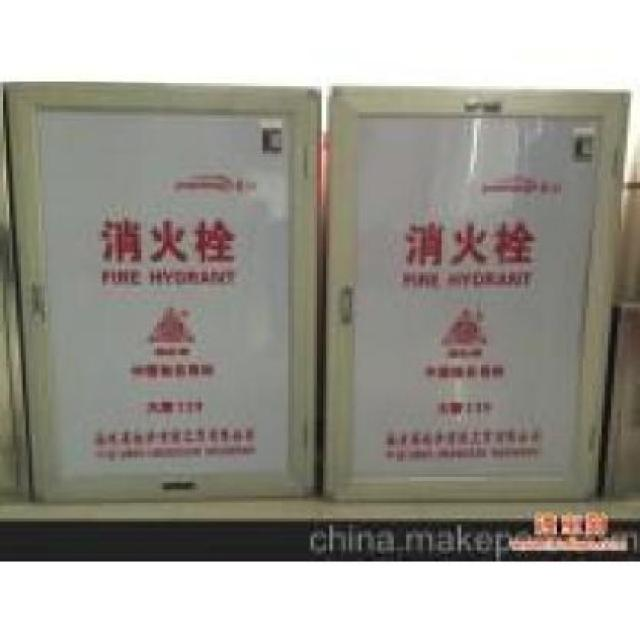firehydrant: (1, 75, 324, 510), (320, 77, 635, 508)
